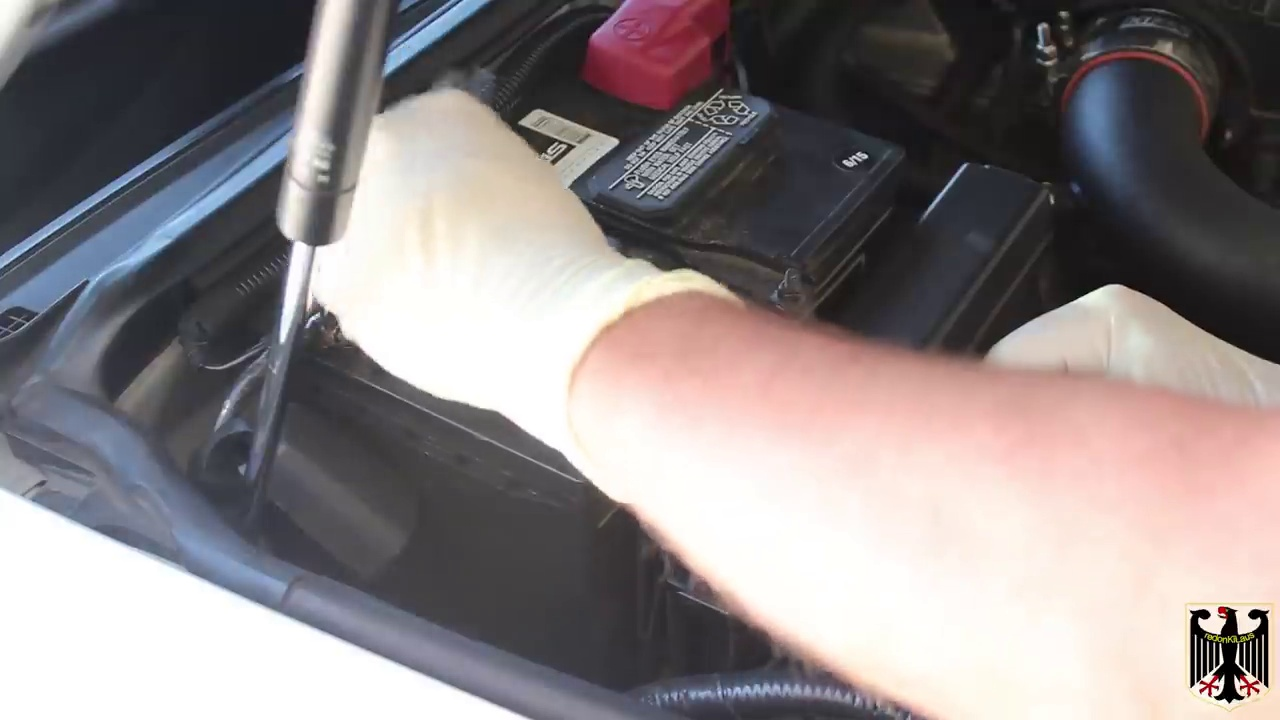battery: (276, 39, 907, 493)
pos_connected: (576, 5, 757, 126)
